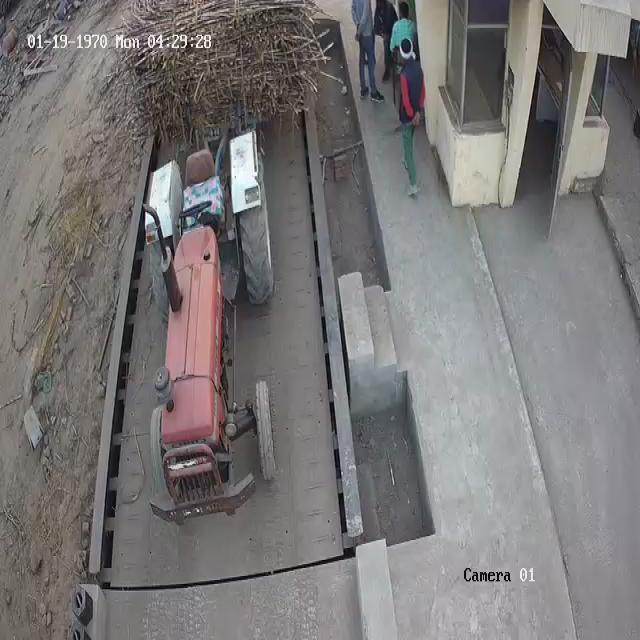Tratores - v5 YOLO V8L 2024-11-13: (142, 127, 290, 524)
